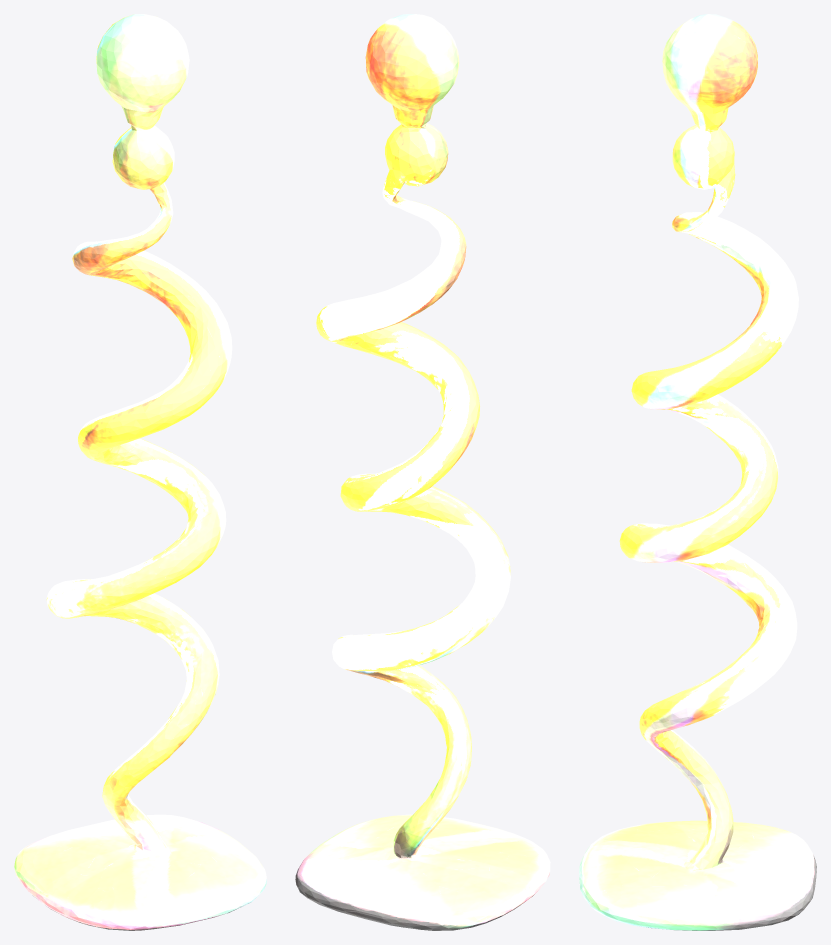
Rendered from elegance.glb.
3 renders of one model, left to right at view 1: azimuth 30°, elevation 25°; view 2: azimuth 150°, elevation 25°; view 3: azimuth 270°, elevation 25°, orthographic.
Parts seen in each view (by area): view 1: temp; view 2: temp; view 3: temp.
Part boxes in pixels (<box>): temp: <box>14,14,266,930</box>; temp: <box>295,14,550,930</box>; temp: <box>579,14,816,930</box>.
Bounding box in the file's own units: 0.4914 × 2 × 0.4872.
